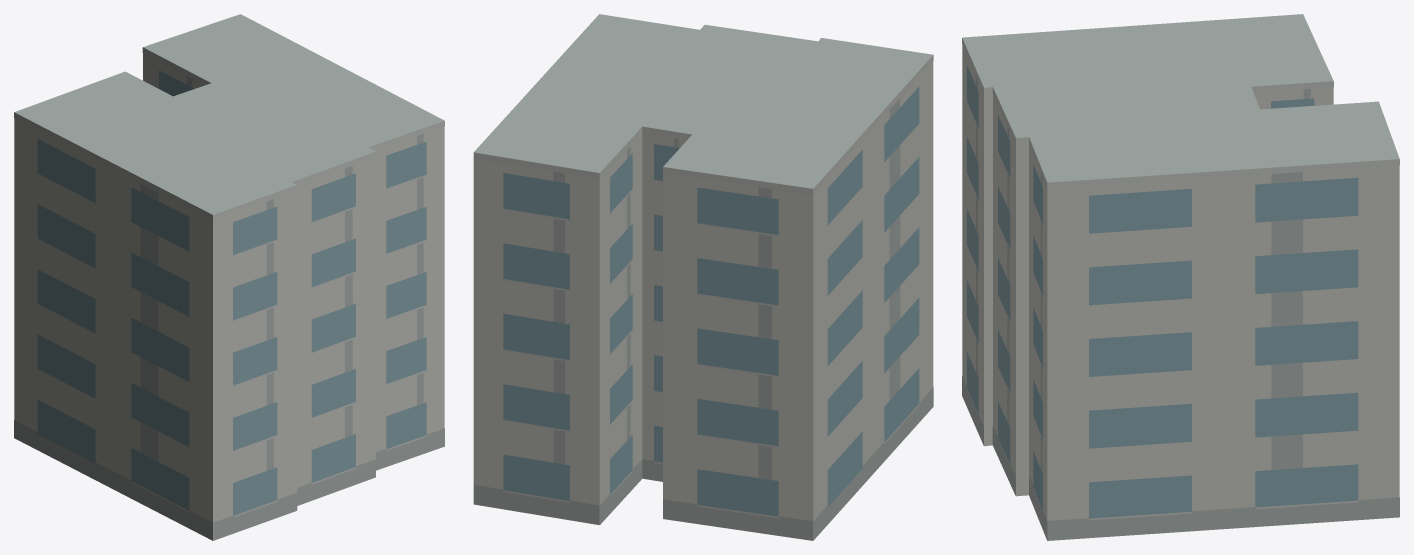
Rendered from survey-upis-32542812.glb.
The picture shows the model from 3 angles, left to right: view 1: azimuth 30°, elevation 25°; view 2: azimuth 150°, elevation 25°; view 3: azimuth 270°, elevation 25°; orthographic projection. The views are drawn at different scales.
Visible parts, largest first — view 1: survey-upis-32542812.tmp; view 2: survey-upis-32542812.tmp; view 3: survey-upis-32542812.tmp.
Boxes of the visible parts, left/top/right/bottom form: survey-upis-32542812.tmp: left=14, top=14, right=444, bottom=540; survey-upis-32542812.tmp: left=473, top=14, right=933, bottom=540; survey-upis-32542812.tmp: left=962, top=14, right=1399, bottom=540.
Size of the model in its own units: 13.94 by 13.8 by 15.29.
